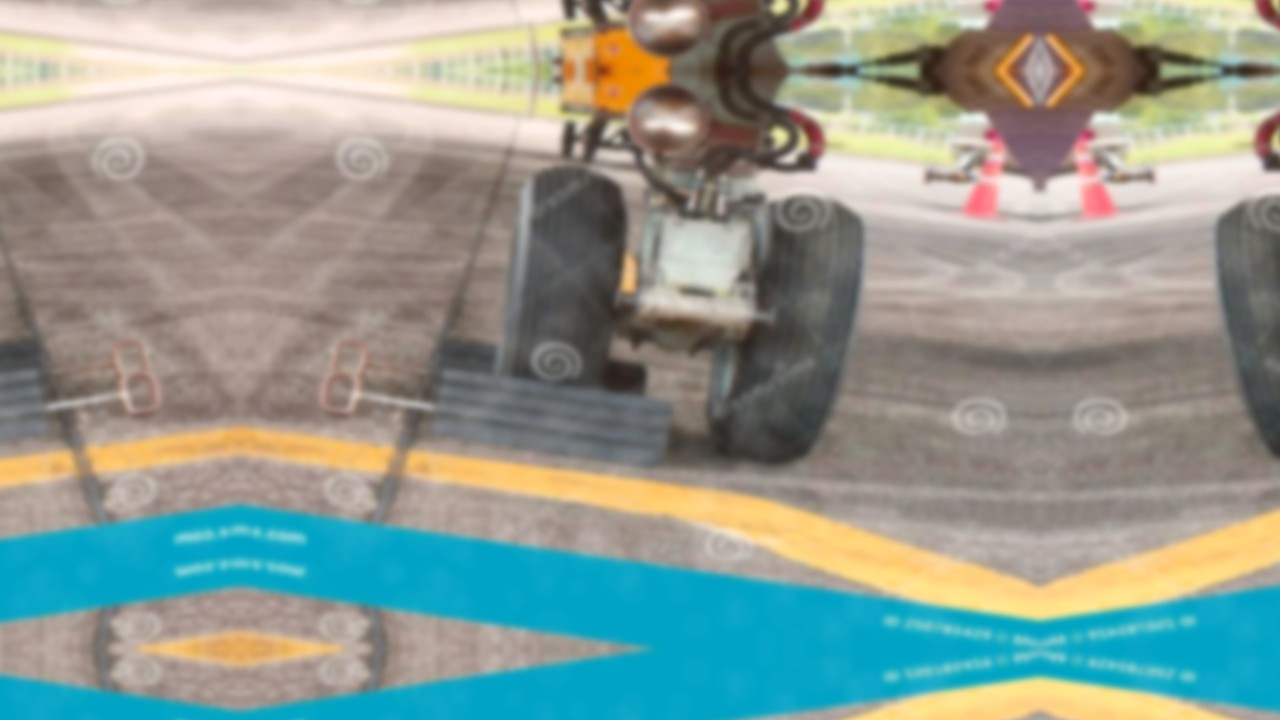chock: (417, 353, 686, 477), (421, 318, 658, 410), (0, 353, 63, 477), (0, 318, 59, 410)
wheel: (670, 178, 886, 470), (463, 146, 662, 395), (1194, 178, 1280, 470)
